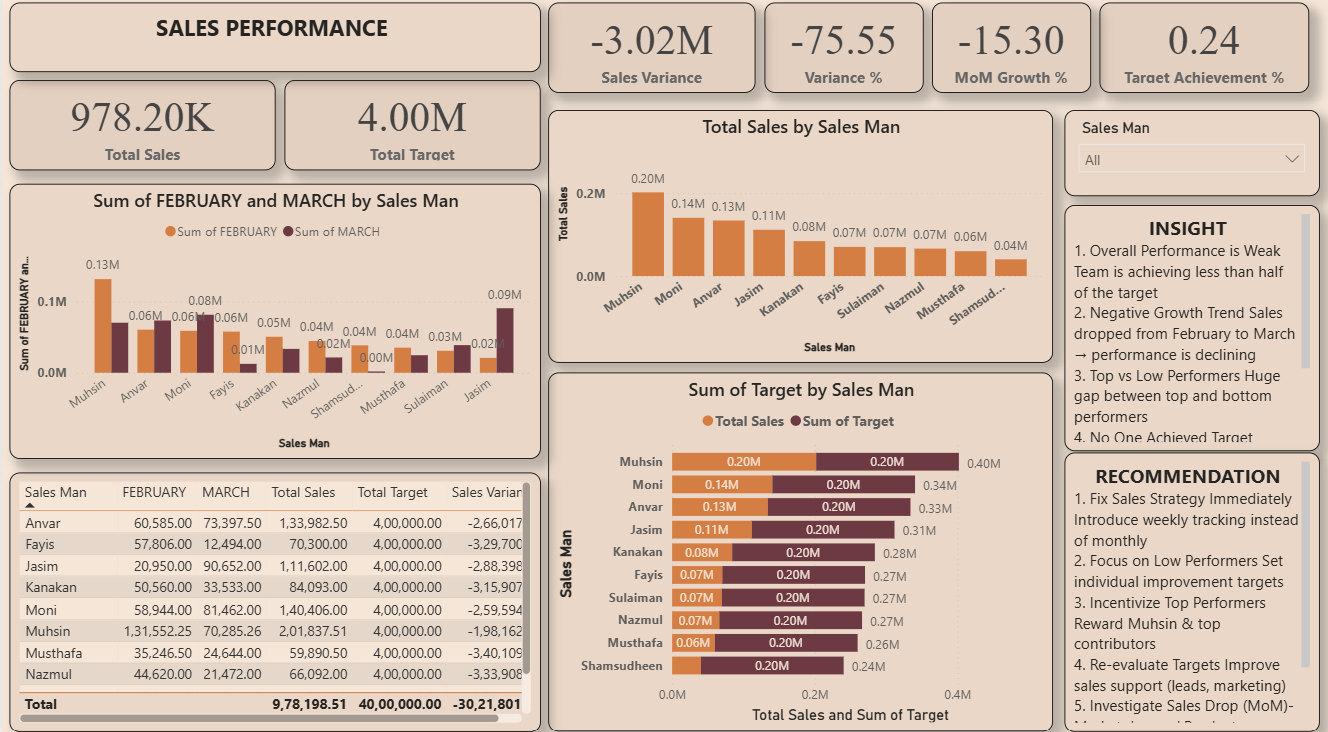

What the dashboard file says about the page in this screenshot:
{"tool":"powerbi","page":{"name":"SALES PERFORMANCE ","canvas":[1280,720],"ordinal":1},"visuals":[{"type":"card","fields":{"Values":["Salesman Data.Total Sales"]},"box":[7.2,86.9,257,86.9],"z":0},{"type":"card","fields":{"Values":["Salesman Data.Total Target"]},"box":[272.7,86.9,247.3,86.9],"z":1000},{"type":"card","fields":{"Values":["Salesman Data.Target Achievement %"]},"box":[1059.3,12.1,202.7,86.9],"z":2000},{"type":"card","fields":{"Values":["Salesman Data.Variance %"]},"box":[735.9,12.1,153.2,86.9],"z":3000},{"type":"card","fields":{"Values":["Salesman Data.MoM Growth %"]},"box":[897.6,12.1,153.2,86.9],"z":4000},{"type":"card","fields":{"Values":["Salesman Data.Sales Variance"]},"box":[527.2,12.1,200.3,86.9],"z":5000},{"type":"columnChart","fields":{"Category":["Salesman Data.Sales Man"],"Y":["Salesman Data.Total Sales"]},"box":[526.9,115.3,487.1,244.3],"z":6000},{"type":"barChart","title":"Sum of Target by Sales Man","fields":{"Category":["Salesman Data.Sales Man"],"Y":["Salesman Data.Total Sales","Sum(Salesman Data.Target)"]},"box":[526.9,369.1,487.1,347.2],"z":7000},{"type":"slicer","fields":{"Values":["Salesman Data.Sales Man"]},"box":[1025.5,115.8,246.1,83.2],"z":8000},{"type":"tableEx","fields":{"Values":["Salesman Data.Sales Man","Salesman Data.FEBRUARY","Salesman Data.MARCH","Salesman Data.Total Sales","Salesman Data.Total Target","Salesman Data.Sales Variance"]},"box":[7.2,465.7,512.7,250.9],"z":9000},{"type":"clusteredColumnChart","title":"Sum of FEBRUARY and MARCH by Sales Man","fields":{"Category":["Salesman Data.Sales Man"],"Y":["Sum(Salesman Data.FEBRUARY)","Sum(Salesman Data.MARCH)"]},"box":[7.2,187,512.7,265.4],"z":10000},{"type":"textbox","box":[1025.5,207.5,246.1,237.7],"z":11000},{"type":"textbox","box":[1025,446,246,270],"z":12000},{"type":"textbox","box":[7.2,12.1,512.7,67.6],"z":13000}]}

Visuals, with their boxes in screenshot pixels (x1, y1, x2, y2), scaled from the page's 1280x720 canvas onto the 1328x732 screenshot:
card - Salesman Data.Total Sales: bbox=(7, 88, 274, 177)
card - Salesman Data.Total Target: bbox=(283, 88, 540, 177)
card - Salesman Data.Target Achievement %: bbox=(1099, 12, 1309, 101)
card - Salesman Data.Variance %: bbox=(763, 12, 922, 101)
card - Salesman Data.MoM Growth %: bbox=(931, 12, 1090, 101)
card - Salesman Data.Sales Variance: bbox=(547, 12, 755, 101)
columnChart - Salesman Data.Sales Man x Salesman Data.Total Sales: bbox=(547, 117, 1052, 366)
"Sum of Target by Sales Man" barChart: bbox=(547, 375, 1052, 728)
slicer - Salesman Data.Sales Man: bbox=(1064, 118, 1319, 202)
tableEx - Salesman Data.Sales Man x Salesman Data.FEBRUARY: bbox=(7, 473, 539, 729)
"Sum of FEBRUARY and MARCH by Sales Man" clusteredColumnChart: bbox=(7, 190, 539, 460)
textbox: bbox=(1064, 211, 1319, 453)
textbox: bbox=(1063, 453, 1319, 728)
textbox: bbox=(7, 12, 539, 81)
